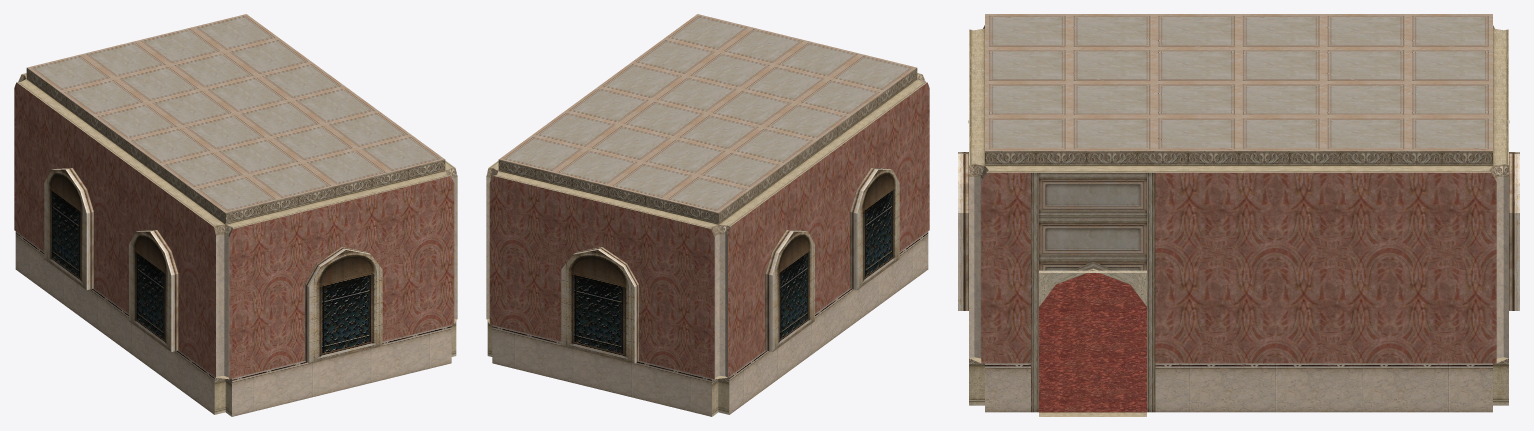
The model's file is ply_nboo_house_lg_s01_fp1_r11_room4_mesh_r11.fbx.
3 views of the same model, side by side, from view 1: azimuth 30°, elevation 25°; view 2: azimuth 150°, elevation 25°; view 3: azimuth 270°, elevation 25° (orthographic). The views are drawn at different scales.
Visible parts, largest first — view 1: mesh_node; view 2: mesh_node; view 3: mesh_node.
Boxes of the visible parts, bbox=[...] form: mesh_node: bbox=[14, 14, 457, 416]; mesh_node: bbox=[486, 14, 929, 416]; mesh_node: bbox=[958, 14, 1519, 416].
Bounding box in the file's own units: 7 × 5.2 × 10.4.
